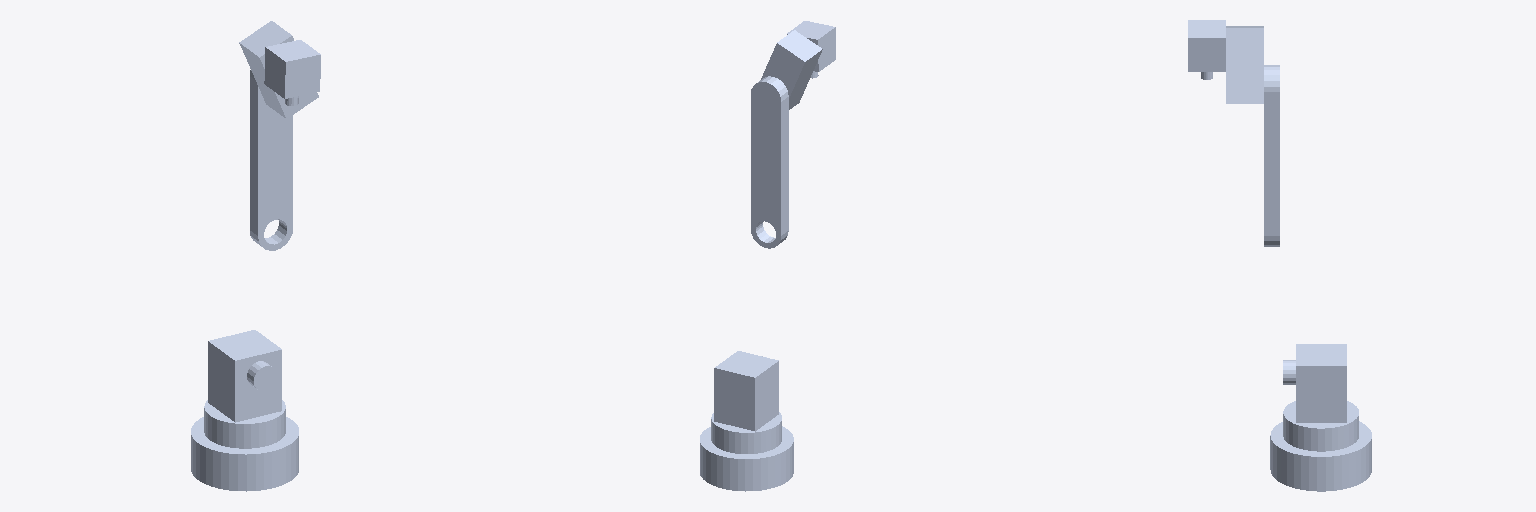
robot.urdf — my_robot_arm:
<?xml version="1.0" encoding="utf-8"?>
<!-- This URDF was automatically created by SolidWorks to URDF Exporter! Originally created by Stephen Brawner (brawner@gmail.com) 
     Commit Version: 1.6.0-4-g7f85cfe  Build Version: 1.6.7995.38578
     For more information, please see http://wiki.ros.org/sw_urdf_exporter -->
<robot
  name="my_robot_arm">
  <link
    name="base_link">
    <inertial>
      <origin
        xyz="0 0.03 -4.25545834335212E-18"
        rpy="0 0 0" />
      <mass
        value="3.2572032632419" />
      <inertia
        ixx="0.00618868620015961"
        ixy="-1.51066593981675E-35"
        ixz="0"
        iyy="0.0104230504423741"
        iyz="1.3538066985103E-35"
        izz="0.00618868620015961" />
    </inertial>
    <visual>
      <origin
        xyz="0 0 0"
        rpy="0 0 0" />
      <geometry>
        <mesh
          filename="package://my_robot_arm/meshes/base_link.STL" />
      </geometry>
      <material
        name="">
        <color
          rgba="0.866666666666667 0.909803921568627 1 1" />
      </material>
    </visual>
    <collision>
      <origin
        xyz="0 0 0"
        rpy="0 0 0" />
      <geometry>
        <mesh
          filename="package://my_robot_arm/meshes/base_link.STL" />
      </geometry>
    </collision>
  </link>
  <link
    name="link_1">
    <inertial>
      <origin
        xyz="1.75517267812647E-19 0.0621127666396445 0.00112448521614337"
        rpy="0 0 0" />
      <mass
        value="3.01730962503325" />
      <inertia
        ixx="0.00746434411239922"
        ixy="-1.50766976144443E-20"
        ixz="-1.10238048738751E-19"
        iyy="0.00421669070437083"
        iyz="-0.000162477554967684"
        izz="0.00730303729098018" />
    </inertial>
    <visual>
      <origin
        xyz="0 0 0"
        rpy="0 0 0" />
      <geometry>
        <mesh
          filename="package://my_robot_arm/meshes/link_1.STL" />
      </geometry>
      <material
        name="">
        <color
          rgba="0.866666666666667 0.909803921568627 1 1" />
      </material>
    </visual>
    <collision>
      <origin
        xyz="0 0 0"
        rpy="0 0 0" />
      <geometry>
        <mesh
          filename="package://my_robot_arm/meshes/link_1.STL" />
      </geometry>
    </collision>
  </link>
  <joint
    name="joint_1"
    type="revolute">
    <origin
      xyz="0 0 0.06"
      rpy="1.5708 0 0" />
    <parent
      link="base_link" />
    <child
      link="link_1" />
    <axis
      xyz="0 1 0" />
    <limit
      lower="-3.14"
      upper="3.14"
      effort="100"
      velocity="2" />
  </joint>
  <link
    name="link_2">
    <inertial>
      <origin
        xyz="5.71298823733379E-19 0.142622237509881 0.0142622237509881"
        rpy="0 0 0" />
      <mass
        value="1.20335175370558" />
      <inertia
        ixx="0.00864419704473419"
        ixy="-5.17378464737738E-21"
        ixz="1.88029136665408E-20"
        iyy="0.000458643663415274"
        iyz="-0.000227702603113562"
        izz="0.00887893667048643" />
    </inertial>
    <visual>
      <origin
        xyz="0 0 0"
        rpy="0 0 0" />
      <geometry>
        <mesh
          filename="package://my_robot_arm/meshes/link_2.STL" />
      </geometry>
      <material
        name="">
        <color
          rgba="0.866666666666667 0.909803921568627 1 1" />
      </material>
    </visual>
    <collision>
      <origin
        xyz="0 0 0"
        rpy="0 0 0" />
      <geometry>
        <mesh
          filename="package://my_robot_arm/meshes/link_2.STL" />
      </geometry>
    </collision>
  </link>
  <joint
    name="joint_2"
    type="revolute">
    <origin
      xyz="0 0.11 0.04"
      rpy="0 0 0" />
    <parent
      link="link_1" />
    <child
      link="link_2" />
    <axis
      xyz="0 0 1" />
    <limit
      lower="-3.14"
      upper="3.14"
      effort="100"
      velocity="2" />
  </joint>
  <link
    name="link_3">
    <inertial>
      <origin
        xyz="4.75128936851609E-20 0.142622237509881 0.0142622237509881"
        rpy="0 0 0" />
      <mass
        value="1.20335175370558" />
      <inertia
        ixx="0.00864419704473419"
        ixy="-1.52492502956438E-20"
        ixz="2.68480317254945E-20"
        iyy="0.000458643663415274"
        iyz="-0.000227702603113562"
        izz="0.00887893667048642" />
    </inertial>
    <visual>
      <origin
        xyz="0 0 0"
        rpy="0 0 0" />
      <geometry>
        <mesh
          filename="package://my_robot_arm/meshes/link_3.STL" />
      </geometry>
      <material
        name="">
        <color
          rgba="0.866666666666667 0.909803921568627 1 1" />
      </material>
    </visual>
    <collision>
      <origin
        xyz="0 0 0"
        rpy="0 0 0" />
      <geometry>
        <mesh
          filename="package://my_robot_arm/meshes/link_3.STL" />
      </geometry>
    </collision>
  </link>
  <joint
    name="joint_3"
    type="revolute">
    <origin
      xyz="0 0.25 0.025"
      rpy="0 0 0" />
    <parent
      link="link_2" />
    <child
      link="link_3" />
    <axis
      xyz="0 0 1" />
    <limit
      lower="-3.14"
      upper="3.14"
      effort="100"
      velocity="2" />
  </joint>
  <link
    name="link_4">
    <inertial>
      <origin
        xyz="5.55111512312578E-17 0.0306363179564563 0.00154534360853664"
        rpy="0 0 0" />
      <mass
        value="0.5832" />
      <inertia
        ixx="0.000380099755359995"
        ixy="1.24019715521813E-20"
        ixz="3.25266864035804E-19"
        iyy="0.000387404476826497"
        iyz="5.73477990102338E-07"
        izz="0.000342615278533499" />
    </inertial>
    <visual>
      <origin
        xyz="0 0 0"
        rpy="0 0 0" />
      <geometry>
        <mesh
          filename="package://my_robot_arm/meshes/link_4.STL" />
      </geometry>
      <material
        name="">
        <color
          rgba="0.866666666666667 0.909803921568627 1 1" />
      </material>
    </visual>
    <collision>
      <origin
        xyz="0 0 0"
        rpy="0 0 0" />
      <geometry>
        <mesh
          filename="package://my_robot_arm/meshes/link_4.STL" />
      </geometry>
    </collision>
  </link>
  <joint
    name="joint_4"
    type="revolute">
    <origin
      xyz="0 0.25 0.025"
      rpy="1.5708 0 -2.7485" />
    <parent
      link="link_3" />
    <child
      link="link_4" />
    <axis
      xyz="0 1 0" />
    <limit
      lower="-3.14"
      upper="3.14"
      effort="100"
      velocity="2" />
  </joint>
  <link
    name="link_5">
    <inertial>
      <origin
        xyz="0 0.0218327254017625 0.00154534360853664"
        rpy="0 0 0" />
      <mass
        value="0.5832" />
      <inertia
        ixx="0.000380099755359995"
        ixy="1.35525271560688E-19"
        ixz="-4.42310017144355E-20"
        iyy="0.000387404476826496"
        iyz="5.73477990102315E-07"
        izz="0.000342615278533498" />
    </inertial>
    <visual>
      <origin
        xyz="0 0 0"
        rpy="0 0 0" />
      <geometry>
        <mesh
          filename="package://my_robot_arm/meshes/link_5.STL" />
      </geometry>
      <material
        name="">
        <color
          rgba="0.866666666666667 0.909803921568627 1 1" />
      </material>
    </visual>
    <collision>
      <origin
        xyz="0 0 0"
        rpy="0 0 0" />
      <geometry>
        <mesh
          filename="package://my_robot_arm/meshes/link_5.STL" />
      </geometry>
    </collision>
  </link>
  <joint
    name="joint_5"
    type="revolute">
    <origin
      xyz="0 0.03 0.038804"
      rpy="1.5708 0 3.1416" />
    <parent
      link="link_4" />
    <child
      link="link_5" />
    <axis
      xyz="0 1 0" />
    <limit
      lower="-3.14"
      upper="3.14"
      effort="100"
      velocity="2" />
  </joint>
  <link
    name="link_6">
    <inertial>
      <origin
        xyz="2.08166817117217E-17 0.0306363179564563 0.00154534360853664"
        rpy="0 0 0" />
      <mass
        value="0.5832" />
      <inertia
        ixx="0.000380099755359995"
        ixy="1.78042355045914E-20"
        ixz="-1.90582413132218E-19"
        iyy="0.000387404476826497"
        iyz="5.7347799010236E-07"
        izz="0.000342615278533499" />
    </inertial>
    <visual>
      <origin
        xyz="0 0 0"
        rpy="0 0 0" />
      <geometry>
        <mesh
          filename="package://my_robot_arm/meshes/link_6.STL" />
      </geometry>
      <material
        name="">
        <color
          rgba="0.866666666666667 0.909803921568627 1 1" />
      </material>
    </visual>
    <collision>
      <origin
        xyz="0 0 0"
        rpy="0 0 0" />
      <geometry>
        <mesh
          filename="package://my_robot_arm/meshes/link_6.STL" />
      </geometry>
    </collision>
  </link>
  <joint
    name="joint_6"
    type="revolute">
    <origin
      xyz="0 0.021196 0.03"
      rpy="1.5708 0 -0.42359" />
    <parent
      link="link_5" />
    <child
      link="link_6" />
    <axis
      xyz="0 1 0" />
    <limit
      lower="-3.14"
      upper="3.14"
      effort="100"
      velocity="2" />
  </joint>
</robot>

--- Render facts (derived) ---
3 views of the same robot in one strip: view 1: azimuth 30°, elevation 25°; view 2: azimuth 150°, elevation 25°; view 3: azimuth 270°, elevation 25° (orthographic).
Model my_robot_arm with 7 links and 6 joints (6 revolute), rooted at base_link, posed all joints at 0.
Links seen in each view (by area): view 1: link_1, link_3, base_link, link_6, link_5, link_4; view 2: link_1, link_3, base_link, link_5, link_6; view 3: link_1, base_link, link_3, link_6, link_5, link_4.
Boxes of the visible links, bbox=[...] form: link_1: bbox=[204, 330, 285, 448]; link_3: bbox=[250, 70, 292, 250]; base_link: bbox=[191, 417, 298, 491]; link_6: bbox=[264, 40, 320, 105]; link_5: bbox=[239, 21, 293, 80]; link_4: bbox=[253, 74, 318, 118]; link_1: bbox=[711, 351, 781, 453]; link_3: bbox=[751, 76, 788, 248]; base_link: bbox=[700, 426, 793, 491]; link_5: bbox=[765, 30, 822, 88]; link_6: bbox=[787, 21, 835, 78]; link_1: bbox=[1283, 344, 1358, 451]; base_link: bbox=[1270, 421, 1371, 491]; link_3: bbox=[1264, 65, 1279, 246]; link_6: bbox=[1188, 20, 1225, 79]; link_5: bbox=[1226, 26, 1263, 65]; link_4: bbox=[1226, 66, 1263, 103].
Bounding box of the posed robot: 0.1595 × 0.29 × 0.7646 m (x, y, z).
6 mesh visuals loaded from 7 distinct referenced files (6 binary STL); not drawn: 1 (reference not matched to a file when rendering).
